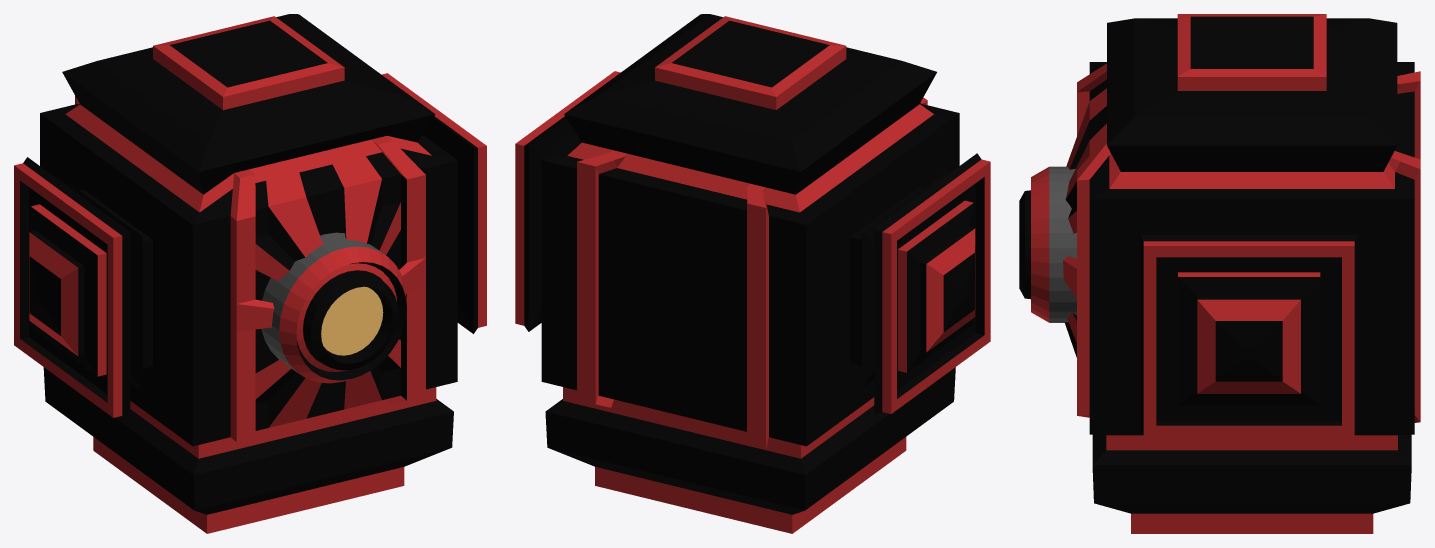
Rendered from body.fbx.
The picture shows the model from 3 angles, left to right: view 1: azimuth 30°, elevation 25°; view 2: azimuth 150°, elevation 25°; view 3: azimuth 270°, elevation 25°; orthographic projection. The views are drawn at different scales.
Parts seen in each view (by area): view 1: MatteBlack, Cube.001, Cylinder, Cube; view 2: MatteBlack, Cube.001, Cube; view 3: MatteBlack, Cube, Cylinder.
Part boxes in pixels (x1,y1,x2,y2): MatteBlack: (40, 14, 457, 533); Cube.001: (14, 157, 152, 418); Cylinder: (261, 232, 406, 383); Cube: (382, 73, 486, 333); MatteBlack: (541, 14, 959, 533); Cube.001: (850, 153, 990, 414); Cube: (515, 71, 620, 331); MatteBlack: (1063, 14, 1420, 533); Cube: (1139, 234, 1358, 437); Cylinder: (1019, 166, 1076, 322).
Bounding box in the file's own units: 131 × 124 × 102.
